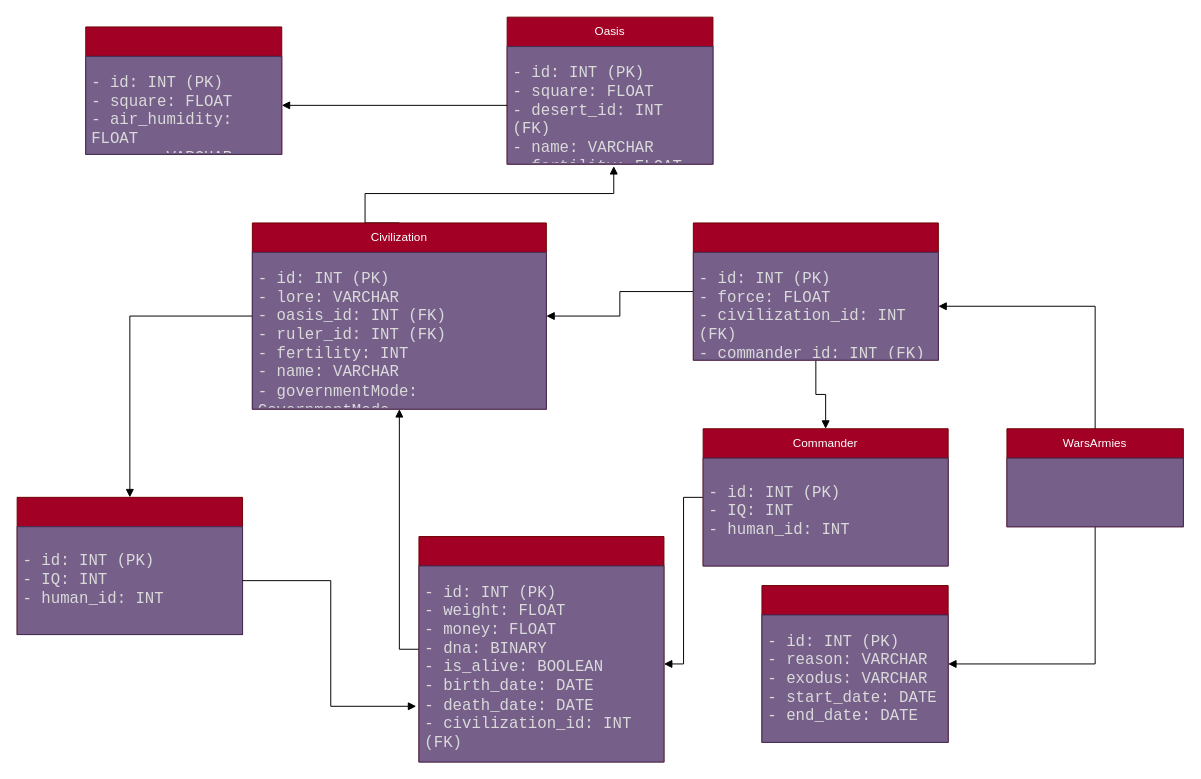
The diagram is 1201 pixels wide and 779 high, and some of its shapes have lost their labels. The shapes that lost their labels are listed below. From the top down, each one's box as (x1, y1, x2, y2) in pixels, then its label:
(85, 26, 282, 154): Desert
(692, 222, 938, 360): Army
(1006, 457, 1183, 527): - army_id: INT (FK) - war_id: INT (FK)
(16, 496, 243, 635): Ruler
(418, 536, 664, 762): Human
(761, 585, 948, 742): Wars
